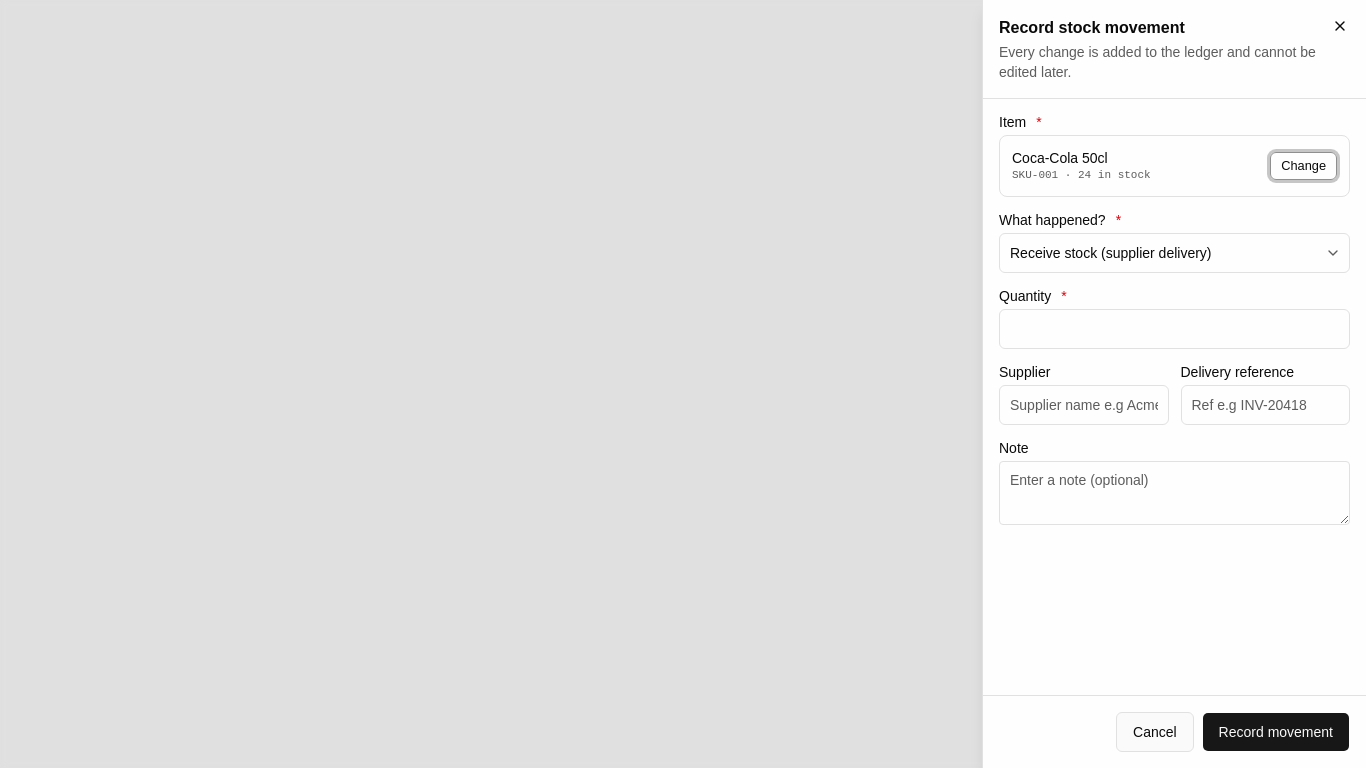
Test case: RecordMovementDrawer › rejects a zero or fractional quantity before submitting
The width and height of the screenshot is (1366, 768).
In the number field labelled "Quantity": (1174, 329) [1000,309,1349,349], type "0"
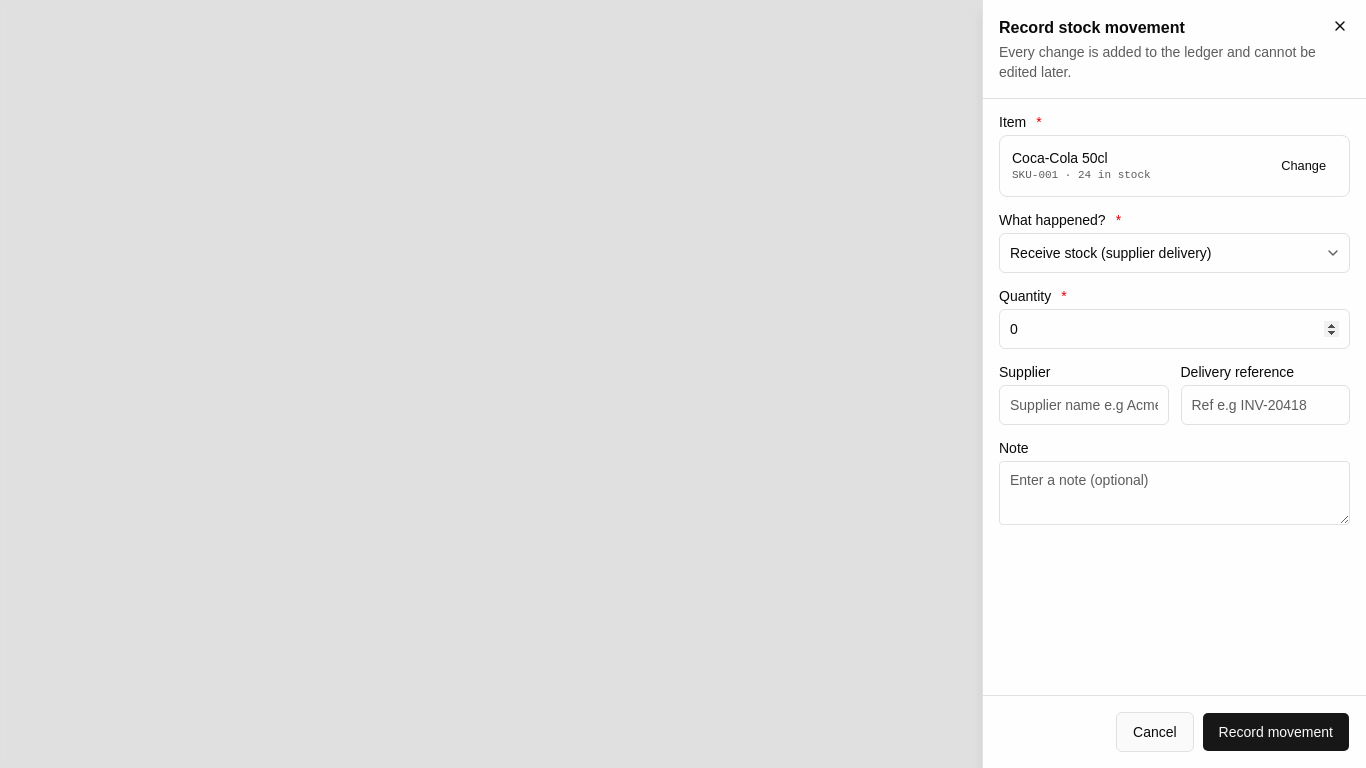
Submit the form named "Quantity", box [983,99,1365,767]
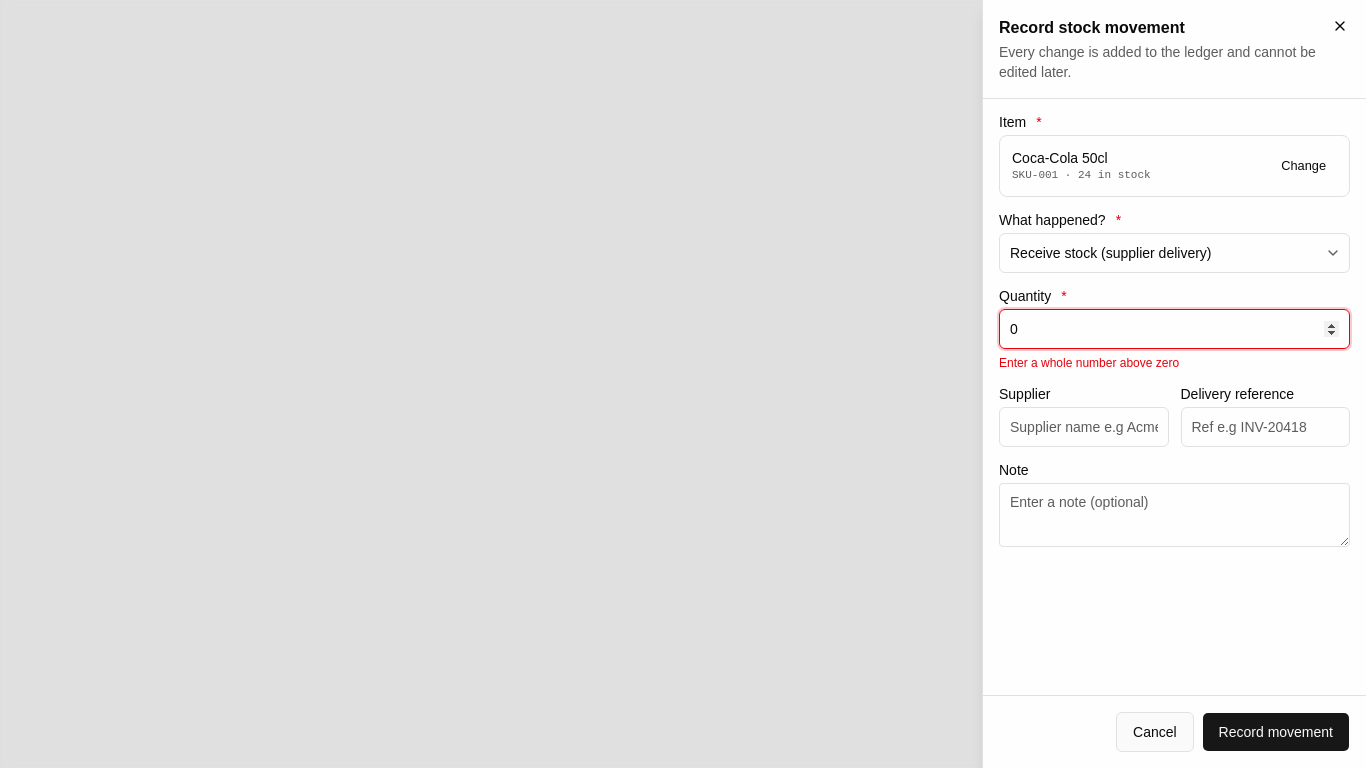
Expected: the text "Enter a whole number above zero" is shown, [999,356,1179,370]
